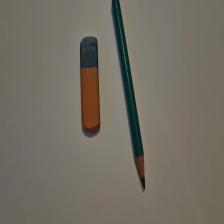eraser: (81, 37, 102, 133)
pencil: (113, 1, 147, 190)
